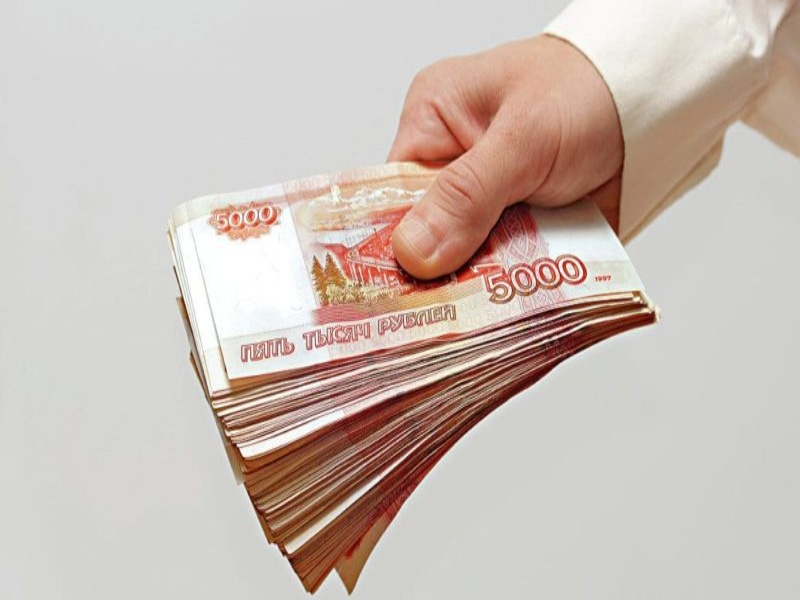cash: (167, 161, 658, 592)
